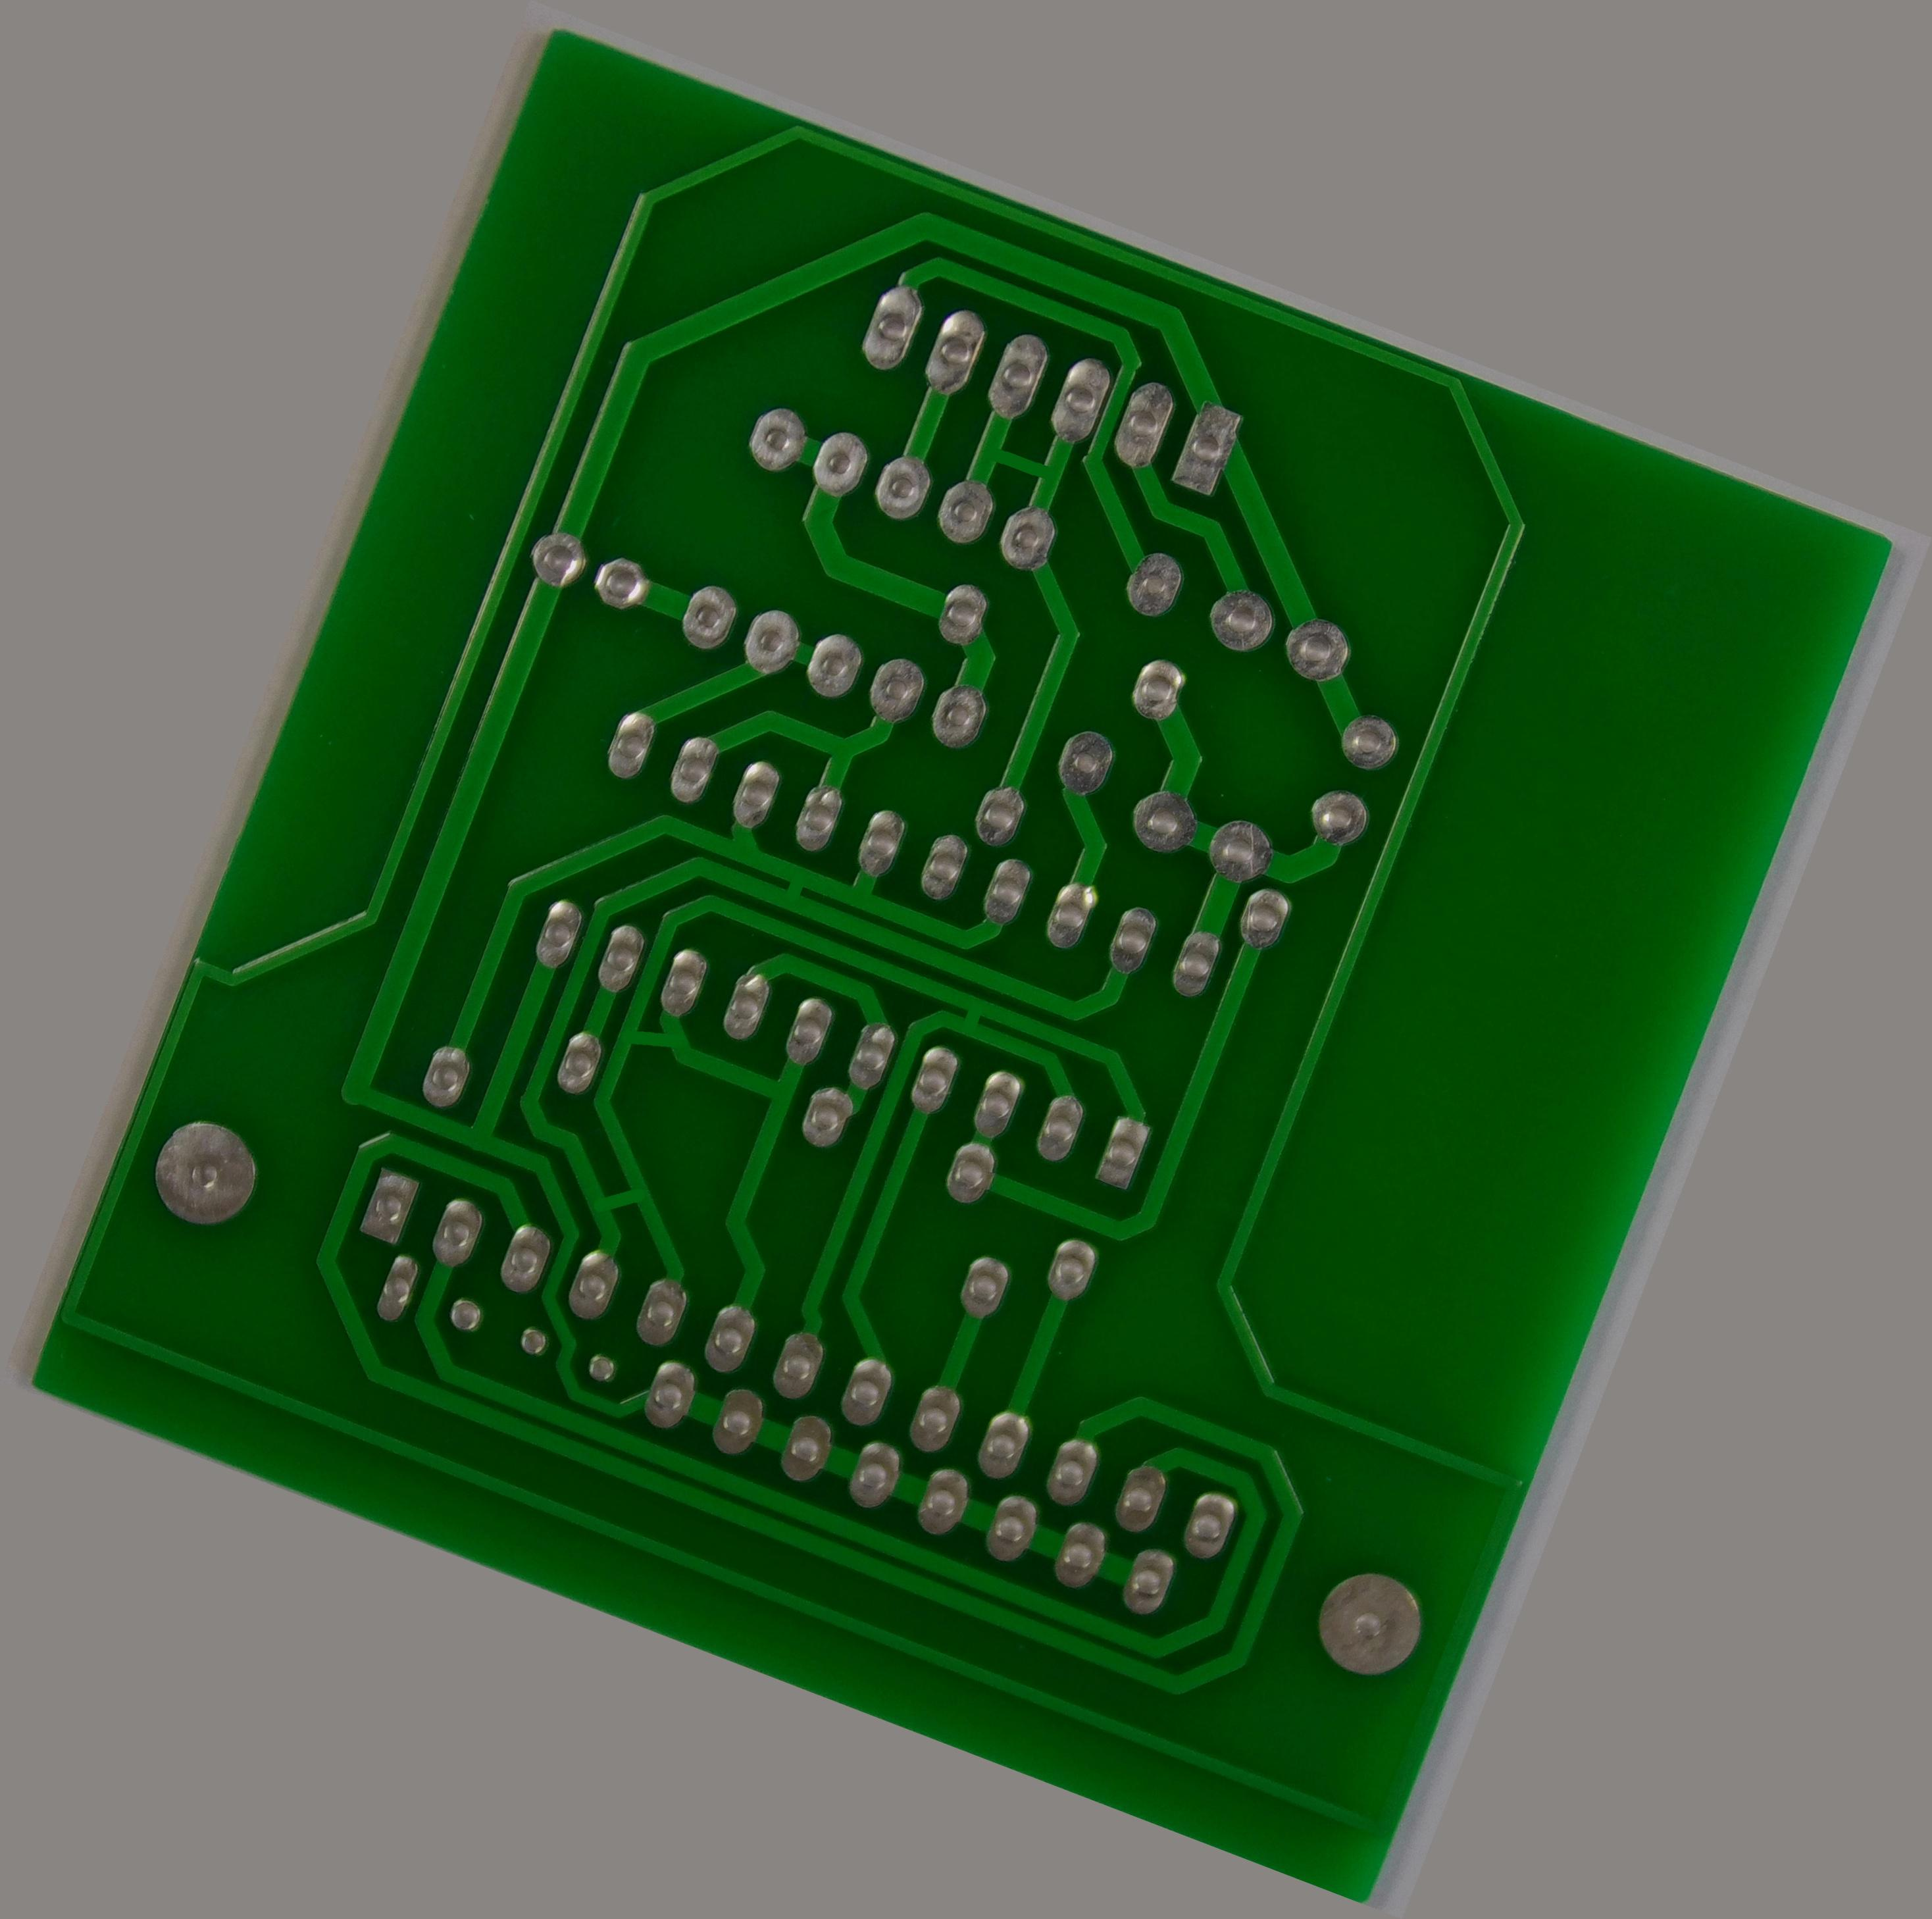short: (953, 418, 1079, 503), (568, 1155, 670, 1242), (603, 1002, 700, 1077), (765, 852, 823, 923), (939, 986, 999, 1049)
